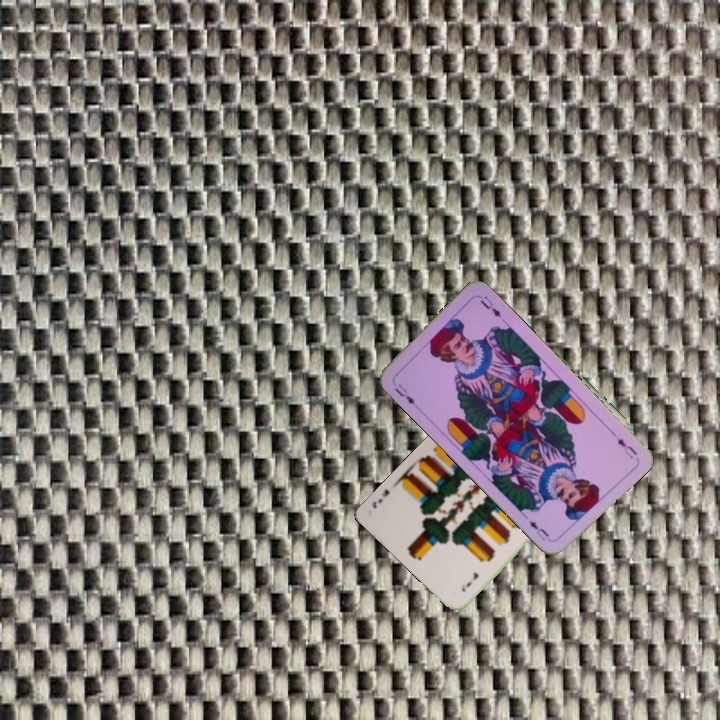E7: (457, 568, 481, 594)
EU: (390, 380, 419, 408), (612, 433, 639, 462)
